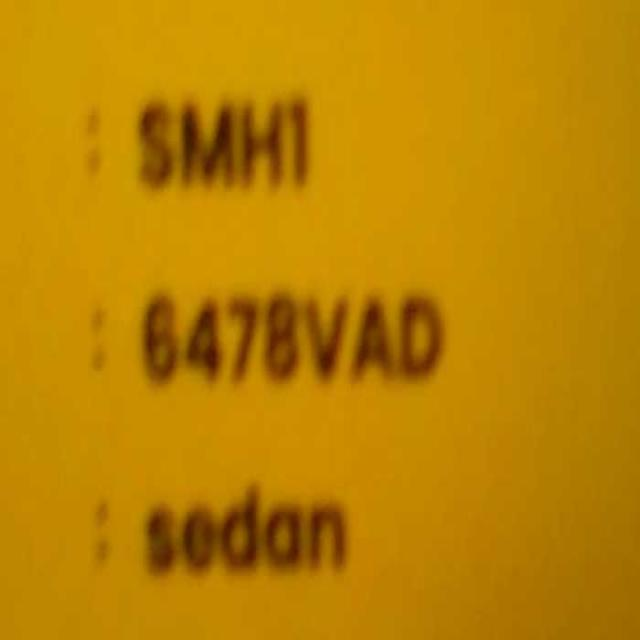license_plate: (140, 282, 447, 409)
